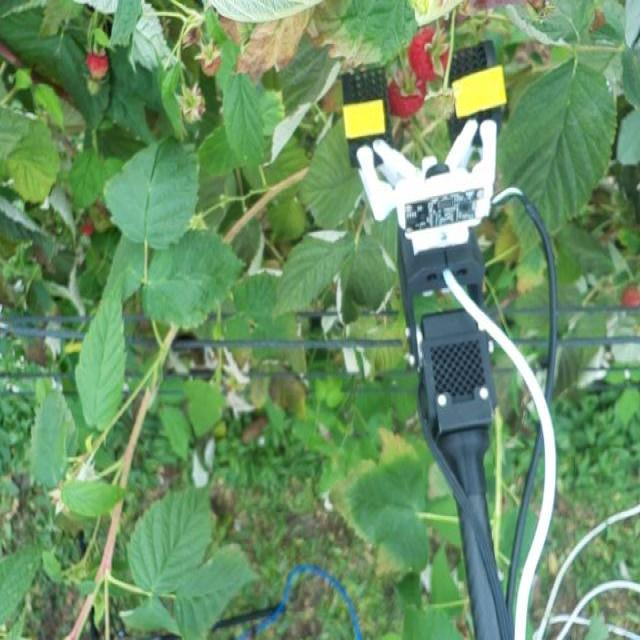Riped berries: (401, 17, 454, 84), (383, 63, 424, 119), (87, 47, 117, 85)
